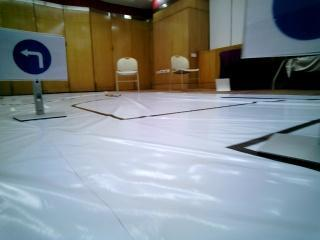left: (2, 33, 62, 77)
